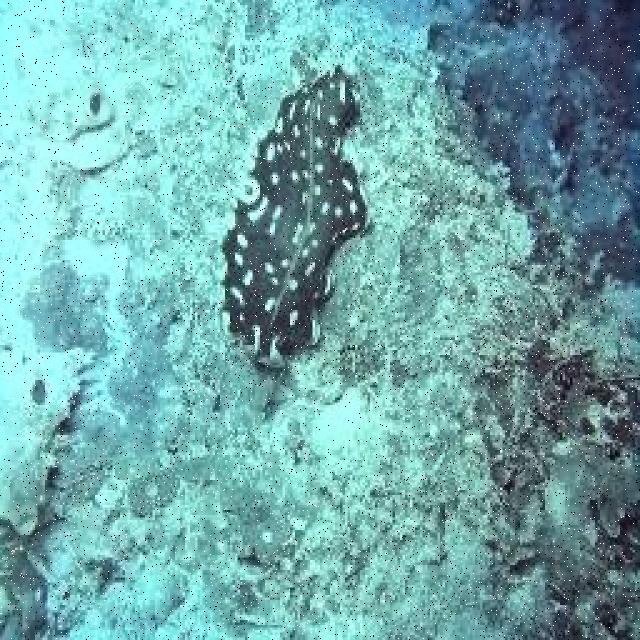reefs: (215, 63, 372, 368)
